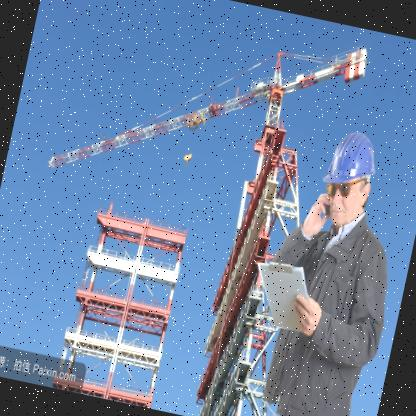capacete: (310, 122, 384, 236)
sem_colete_refletivo: (238, 202, 407, 415)
